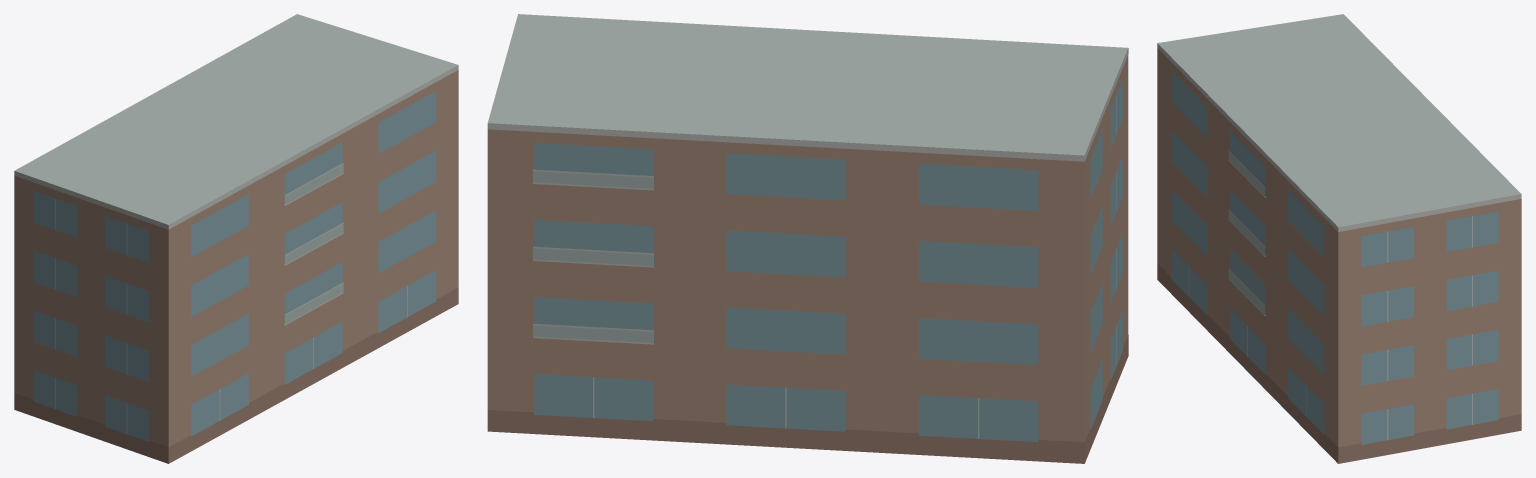
Rendered from survey-upis-32926300.glb.
3 renders of one model, left to right at view 1: azimuth 30°, elevation 25°; view 2: azimuth 150°, elevation 25°; view 3: azimuth 270°, elevation 25°, orthographic. The views are drawn at different scales.
Parts seen in each view (by area): view 1: survey-upis-32926300.tmp; view 2: survey-upis-32926300.tmp; view 3: survey-upis-32926300.tmp.
Boxes of the visible parts, bbox=[...] form: survey-upis-32926300.tmp: bbox=[14, 14, 458, 463]; survey-upis-32926300.tmp: bbox=[487, 14, 1128, 463]; survey-upis-32926300.tmp: bbox=[1157, 14, 1521, 463].
Bounding box in the file's own units: 23.61 × 12.2 × 17.04.
